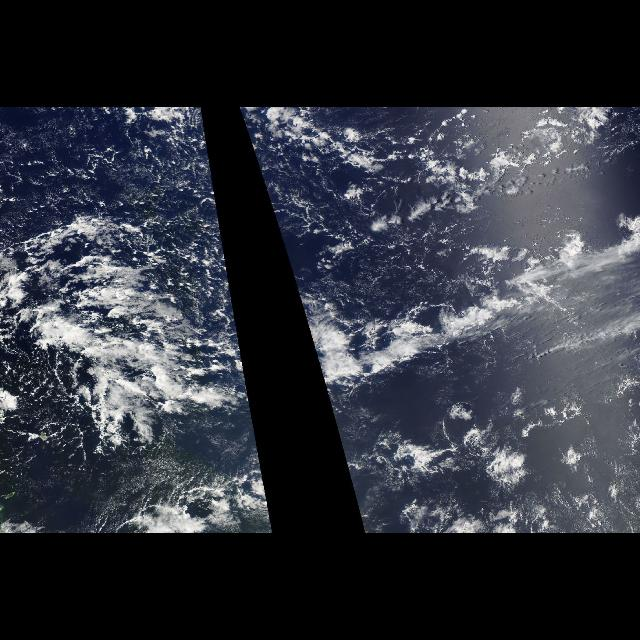Fish: (8, 230, 236, 434)
Gravel: (379, 406, 549, 534), (78, 210, 224, 340)
